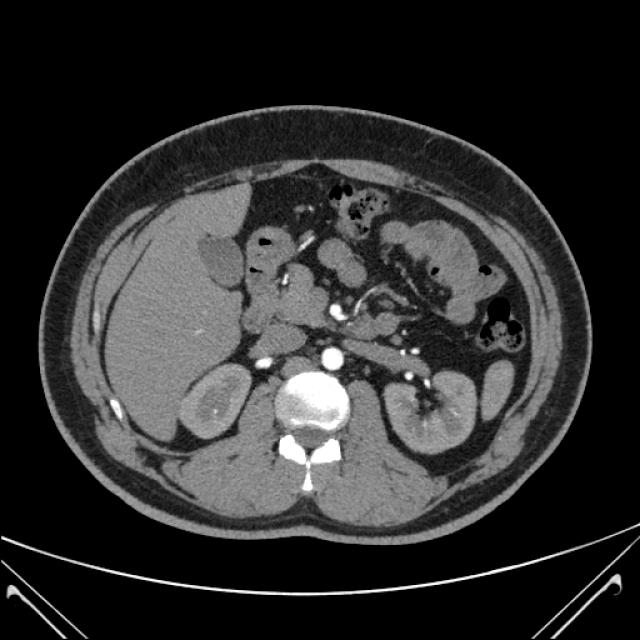Kidney: (92, 48, 640, 561)
